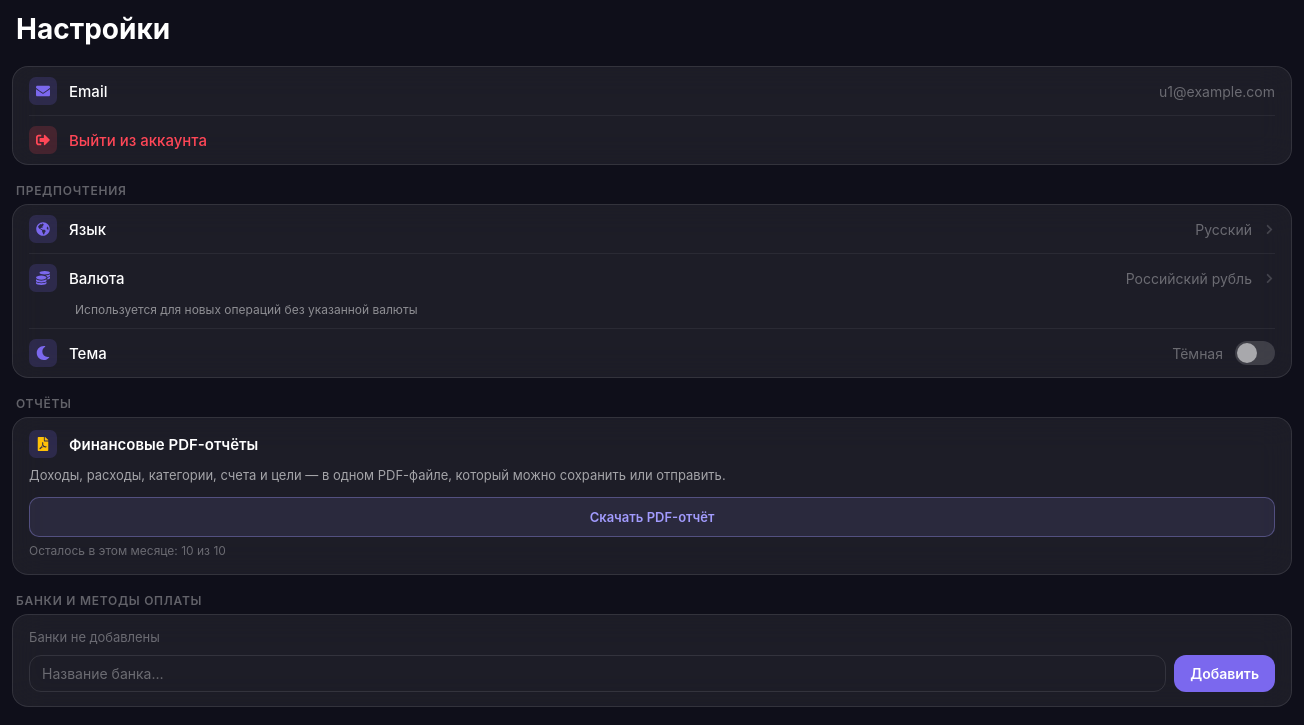
Scenario: Settings: a refusal for the plan, and the button works again afterwards
Click the button "Скачать PDF-отчёт": (652, 517) [29, 497, 1275, 537]
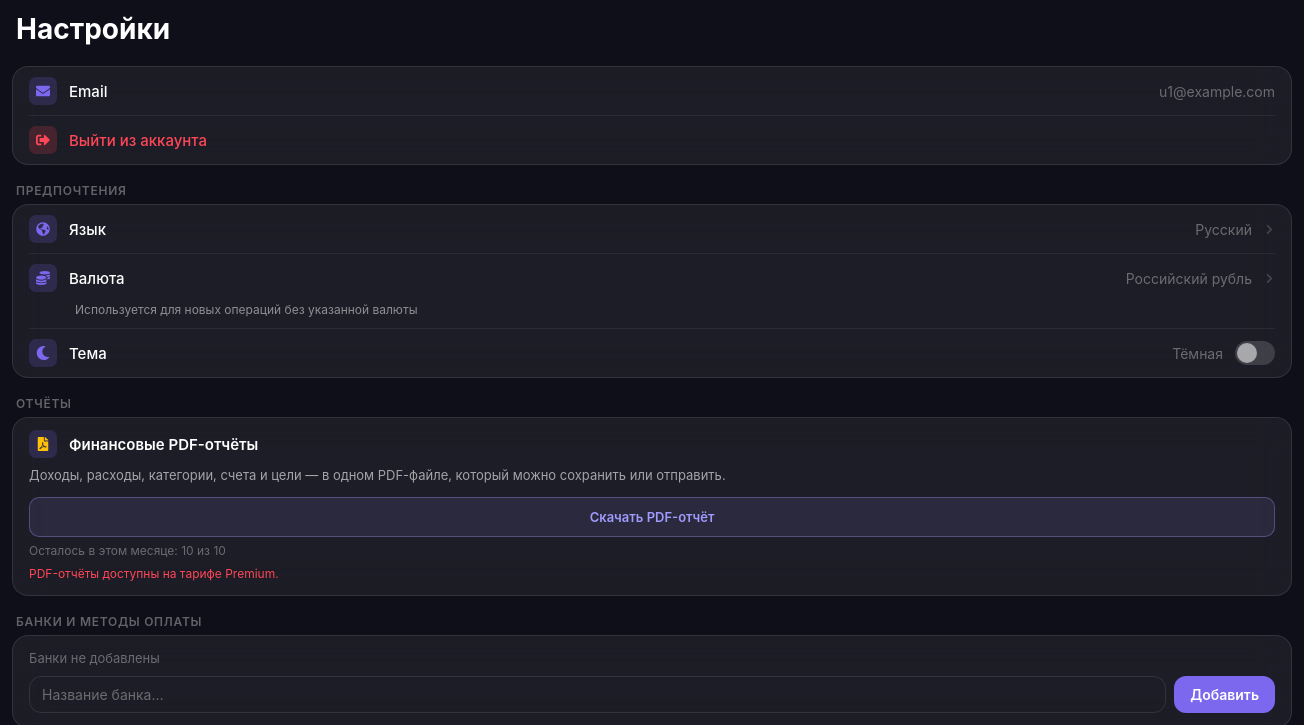
Now the message reads "PDF-отчёты доступны на тарифе Premium.", box [29, 566, 279, 581]
